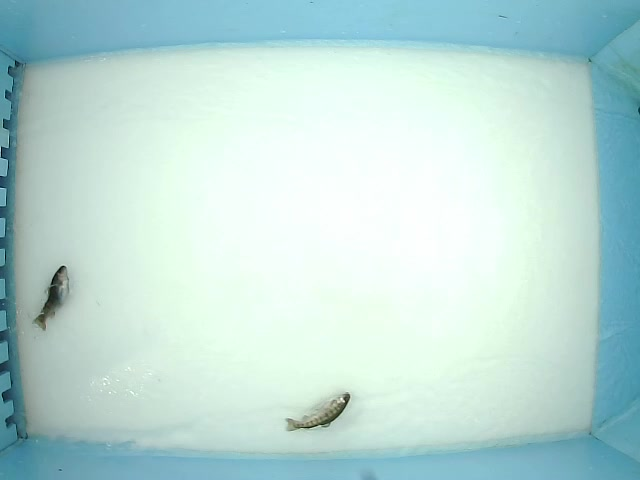fish: (284, 391, 351, 432), (31, 265, 70, 332)
